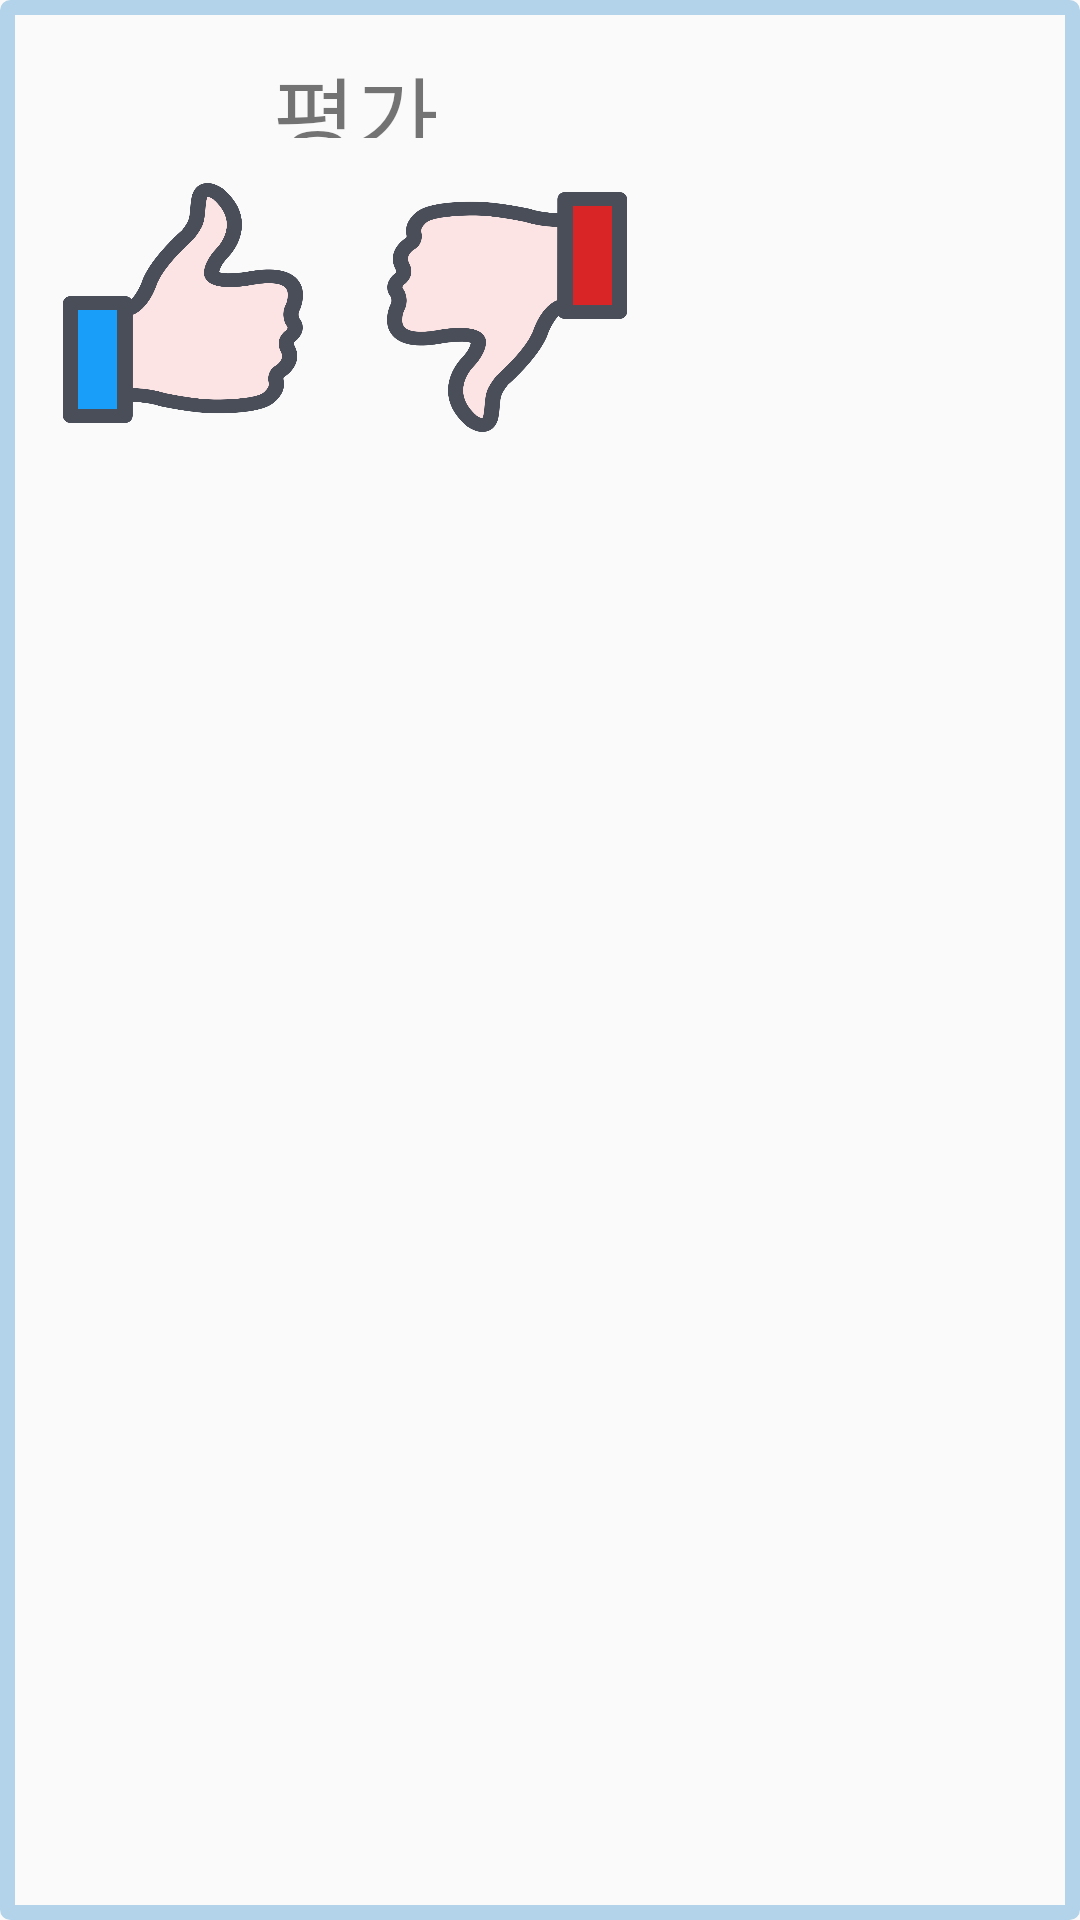

Icons on this 1080w x 1920h Android screen, each with the point to tap as point (x, y):
hate clicked: point (507, 312)
like clicked: point (183, 303)
